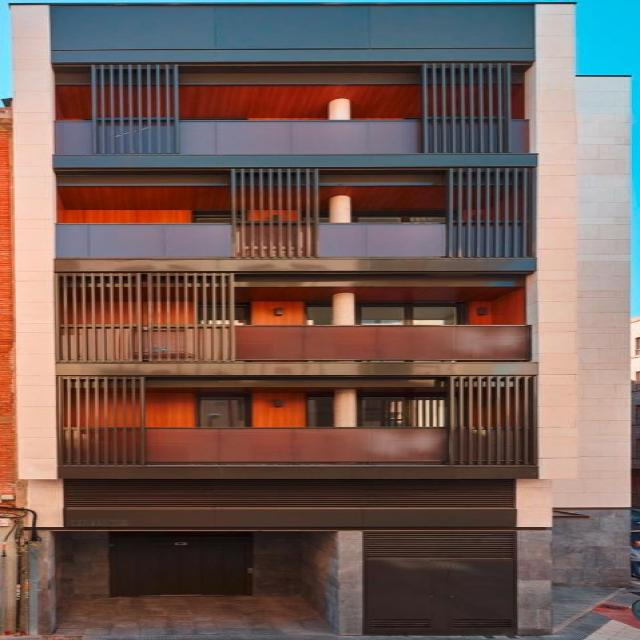door: (364, 559, 516, 636), (112, 528, 240, 590)
railing: (61, 117, 539, 152), (56, 226, 533, 261), (55, 326, 532, 361), (63, 427, 540, 462)
window: (353, 392, 443, 426), (353, 301, 453, 322), (349, 208, 442, 219), (300, 393, 328, 425), (303, 302, 329, 322), (188, 210, 231, 221)
